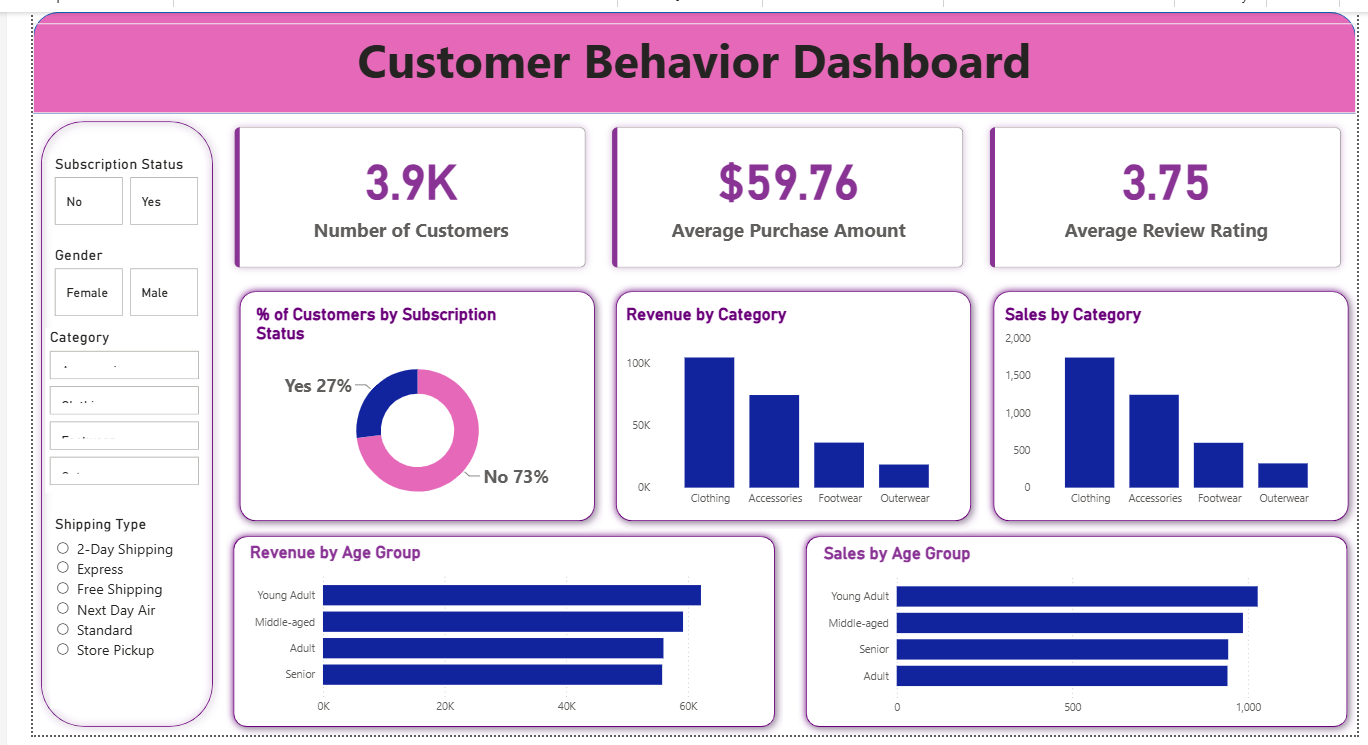

The dashboard page shown, as its layout file describes it:
{"tool":"powerbi","page":{"name":"Page 1","canvas":[1500,820],"ordinal":0},"visuals":[{"type":"cardVisual","fields":{"Data":["public customer.Number of Customers","public customer.Average Purchase Amount","public customer.Average Review Rating"]},"box":[212.9,115.3,1286.5,191.6],"z":2000},{"type":"shape","box":[218.3,585.6,631.7,234.2],"z":2500,"group":"g1"},{"type":"shape","box":[0,0,1499.4,115.3],"z":3000},{"type":"textbox","box":[0,12.4,1499.4,102.9],"z":4000},{"type":"shape","box":[225.4,307,420.5,278.6],"z":5000},{"type":"donutChart","title":"% of Customers by Subscription Status","fields":{"Category":["public customer.subscription_status"],"Y":["CountNonNull(public customer.customer_id)"]},"box":[248.4,331.8,376.2,237.8],"z":6000},{"type":"shape","box":[1078.9,307,420.5,278.6],"z":7000},{"type":"shape","box":[652.1,307,420.5,278.6],"z":8000},{"type":"clusteredColumnChart","title":"Revenue by Category","fields":{"Category":["public customer.category"],"Y":["Sum(public customer.purchase_amount)"]},"box":[667.2,331.8,385.1,237.8],"z":9000},{"type":"clusteredColumnChart","title":"Sales by Category","fields":{"Category":["public customer.category"],"Y":["CountNonNull(public customer.customer_id)"]},"box":[1096.6,331.8,385.1,237.8],"z":10000},{"type":"shape","box":[0,115.3,212.9,704.5],"z":11000},{"type":"advancedSlicerVisual","fields":{"Values":["public customer.subscription_status"]},"box":[19.5,161.5,173.9,85.2],"z":12000},{"type":"advancedSlicerVisual","fields":{"Values":["public customer.gender"]},"box":[19.5,264.4,173.9,85.2],"z":13000},{"type":"advancedSlicerVisual","fields":{"Values":["public customer.category"]},"box":[14.2,358.4,179.2,186.3],"z":14000},{"type":"listSlicer","fields":{"Values":["public customer.shipping_type"]},"box":[19.5,569.6,168.6,220],"z":15000},{"type":"shape","box":[867.7,585.6,631.7,234.2],"z":16000},{"type":"clusteredBarChart","title":"Sales by Age Group","fields":{"Category":["public customer.age_group"],"Y":["CountNonNull(public customer.customer_id)"]},"box":[890.8,601.5,585.6,204.1],"z":17000},{"type":"clusteredBarChart","title":"Revenue by Age Group","fields":{"Category":["public customer.age_group"],"Y":["Sum(public customer.purchase_amount)"]},"box":[241.4,601.6,585.6,204.1],"z":17500,"group":"g1"},{"type":"group","id":"g1","title":"Group 1","box":[218.3,585.6,631.7,234.2],"z":17501}]}

Visuals, with their boxes in screenshot pixels (x1, y1, x2, y2):
cardVisual - public customer.Number of Customers x public customer.Average Purchase Amount: BBox(226, 110, 1367, 282)
shape: BBox(231, 531, 797, 741)
shape: BBox(36, 7, 1367, 110)
textbox: BBox(36, 18, 1367, 110)
shape: BBox(237, 282, 614, 531)
"% of Customers by Subscription Status" donutChart: BBox(258, 304, 595, 517)
shape: BBox(1002, 282, 1367, 531)
shape: BBox(620, 282, 996, 531)
"Revenue by Category" clusteredColumnChart: BBox(633, 304, 978, 517)
"Sales by Category" clusteredColumnChart: BBox(1018, 304, 1362, 517)
shape: BBox(36, 110, 226, 741)
advancedSlicerVisual - public customer.subscription_status: BBox(53, 152, 209, 228)
advancedSlicerVisual - public customer.gender: BBox(53, 244, 209, 320)
advancedSlicerVisual - public customer.category: BBox(48, 328, 209, 495)
listSlicer - public customer.shipping_type: BBox(53, 517, 204, 714)
shape: BBox(813, 531, 1367, 741)
"Sales by Age Group" clusteredBarChart: BBox(833, 546, 1358, 728)
"Revenue by Age Group" clusteredBarChart: BBox(252, 546, 776, 729)
"Group 1" group: BBox(231, 531, 797, 741)
